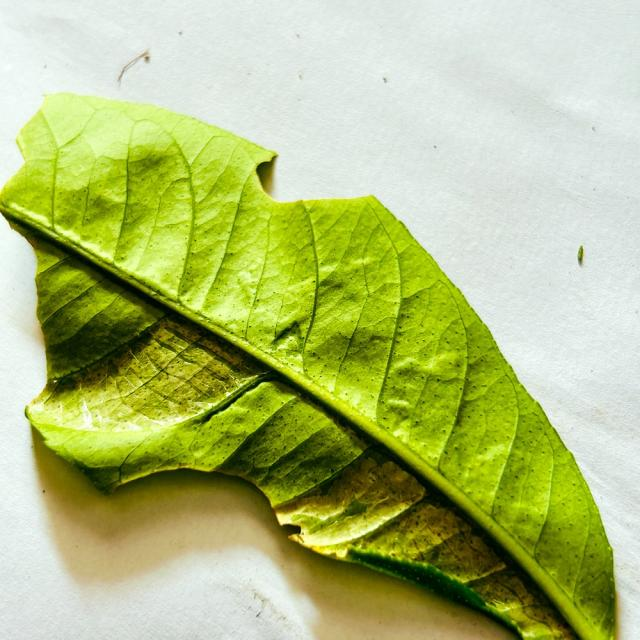Deficiency Leaf: (107, 470, 285, 536), (0, 216, 45, 419), (258, 151, 380, 216), (0, 90, 42, 176)
Lemon: (0, 95, 615, 639)
